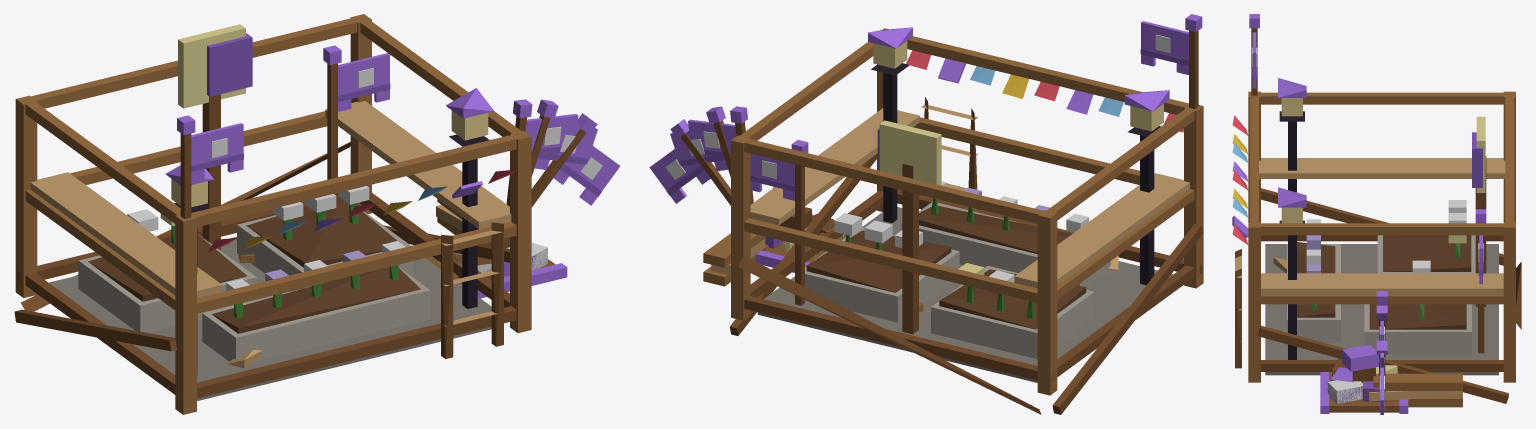
Rendered from moth-producer.glb.
3 views of the same model, side by side, from view 1: azimuth 30°, elevation 25°; view 2: azimuth 150°, elevation 25°; view 3: azimuth 270°, elevation 25° (orthographic). The views are drawn at different scales.
Parts seen in each view (by area): view 1: scaffold-mesh, built-mesh, dismantle-50-mesh, dismantle-75-mesh, scaffold-banner, banner, dismantle-25-banner, flag-pole, scaffold-flag-pole, dismantle-25-mesh, dismantle-75-banner, dismantle-50-banner (+2 smaller); view 2: scaffold-mesh, built-mesh, dismantle-50-mesh, dismantle-75-mesh, scaffold-banner, banner, dismantle-25-banner, flag-pole, dismantle-50-banner, dismantle-75-banner, scaffold-flag-pole, dismantle-25-mesh (+2 smaller); view 3: scaffold-mesh, built-mesh, dismantle-50-mesh, dismantle-75-mesh, dismantle-25-mesh, flag-pole, scaffold-flag-pole, scaffold-banner.
Part boxes in pixels (x1,y1,x2,y2): scaffold-mesh: (14, 14, 531, 414); built-mesh: (88, 24, 494, 361); dismantle-50-mesh: (49, 175, 555, 399); dismantle-75-mesh: (78, 114, 567, 400); scaffold-banner: (191, 123, 243, 181); banner: (338, 53, 390, 111); dismantle-25-banner: (553, 138, 620, 205); flag-pole: (323, 45, 341, 197); scaffold-flag-pole: (177, 115, 195, 218); dismantle-25-mesh: (78, 228, 566, 399); dismantle-75-banner: (525, 114, 578, 156); dismantle-50-banner: (534, 123, 597, 174); scaffold-mesh: (703, 28, 1203, 414); built-mesh: (806, 27, 1169, 329); dismantle-50-mesh: (756, 183, 1172, 382); dismantle-75-mesh: (756, 87, 1110, 382); scaffold-banner: (1140, 21, 1188, 74); banner: (750, 153, 794, 200); dismantle-25-banner: (649, 145, 710, 203); flag-pole: (791, 140, 808, 305); dismantle-50-banner: (670, 128, 727, 175); dismantle-75-banner: (688, 119, 736, 158); scaffold-flag-pole: (1185, 14, 1202, 108); dismantle-25-mesh: (756, 186, 1104, 382); scaffold-mesh: (1232, 91, 1521, 407); built-mesh: (1278, 78, 1486, 359); dismantle-50-mesh: (1265, 200, 1498, 413); dismantle-75-mesh: (1306, 196, 1486, 413); dismantle-25-mesh: (1320, 344, 1407, 413); flag-pole: (1475, 209, 1486, 353); scaffold-flag-pole: (1249, 14, 1259, 95); scaffold-banner: (1252, 32, 1257, 88).
Size of the model in its own units: 2.7 by 1.55 by 1.61.
